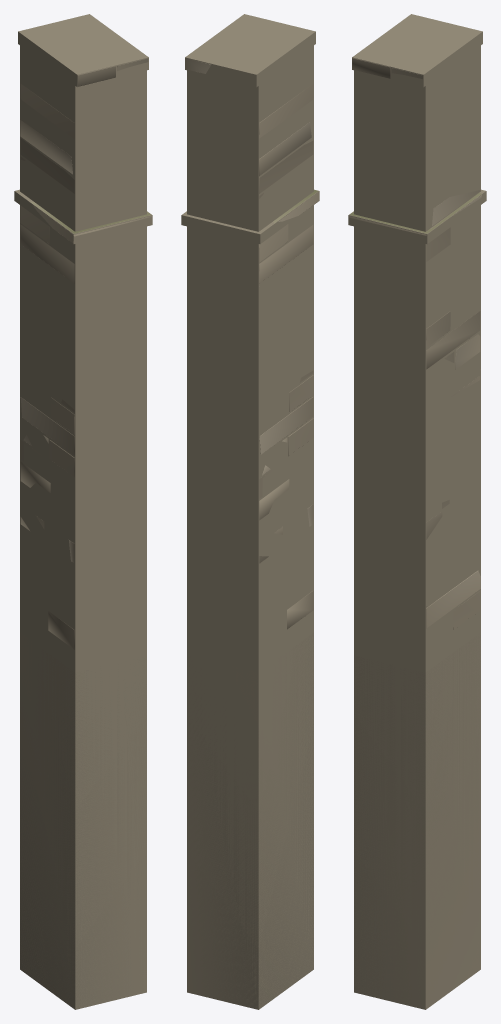
Rendered from viaduct_pier.glb.
The picture shows the model from 3 angles, left to right: view 1: azimuth 30°, elevation 25°; view 2: azimuth 150°, elevation 25°; view 3: azimuth 330°, elevation 25°; orthographic projection.
Visible parts, largest first — view 1: viaduct_pier_far, viaduct_pier; view 2: viaduct_pier_far, viaduct_pier; view 3: viaduct_pier_far, viaduct_pier.
Part boxes in pixels (x1,y1,x2,y2): viaduct_pier_far: (14,14,152,1009); viaduct_pier: (20,58,151,1009); viaduct_pier_far: (181,14,319,1009); viaduct_pier: (185,58,319,1009); viaduct_pier_far: (348,14,486,1009); viaduct_pier: (349,58,481,1009).
Bounding box in the file's own units: 6.61 × 75 × 8.65.
